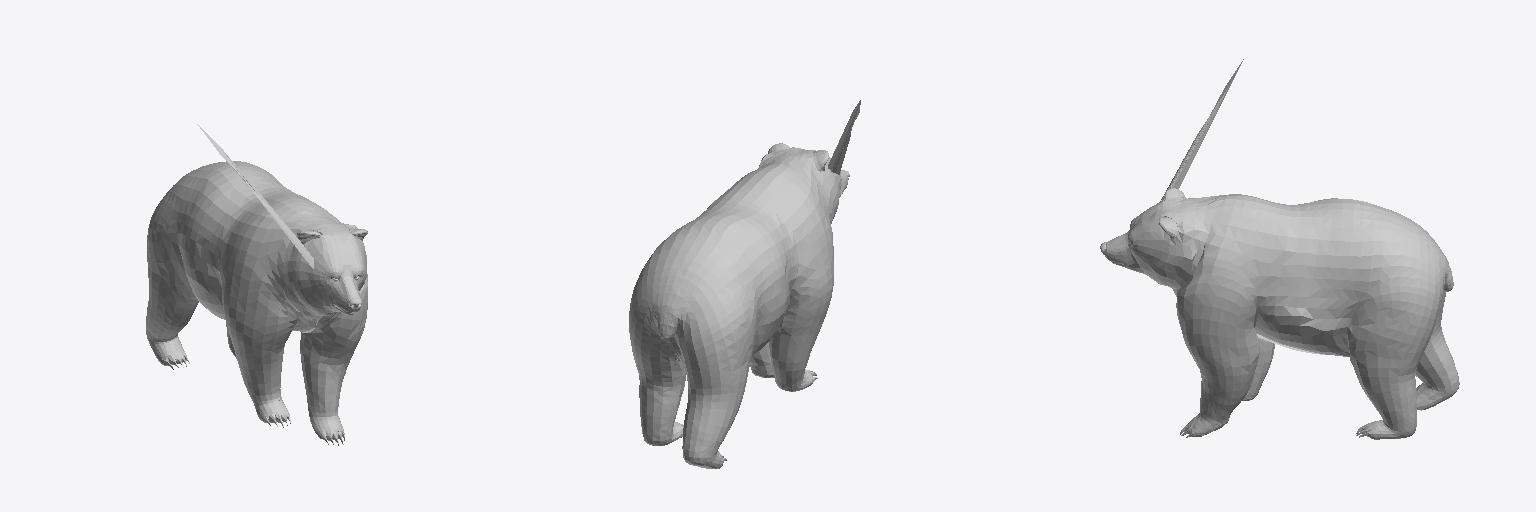
Rendered from Bear0132.obj.
3 views of the same model, side by side, from view 1: azimuth 30°, elevation 25°; view 2: azimuth 150°, elevation 25°; view 3: azimuth 270°, elevation 25° (orthographic).
Parts seen in each view (by area): view 1: Object_237; view 2: Object_237; view 3: Object_237.
Boxes of the visible parts, <box> form: Object_237: <box>146,124,367,445</box>; Object_237: <box>629,100,860,468</box>; Object_237: <box>1100,59,1459,439</box>.
Size of the model in its own units: 2.4 by 4.91 by 4.92.